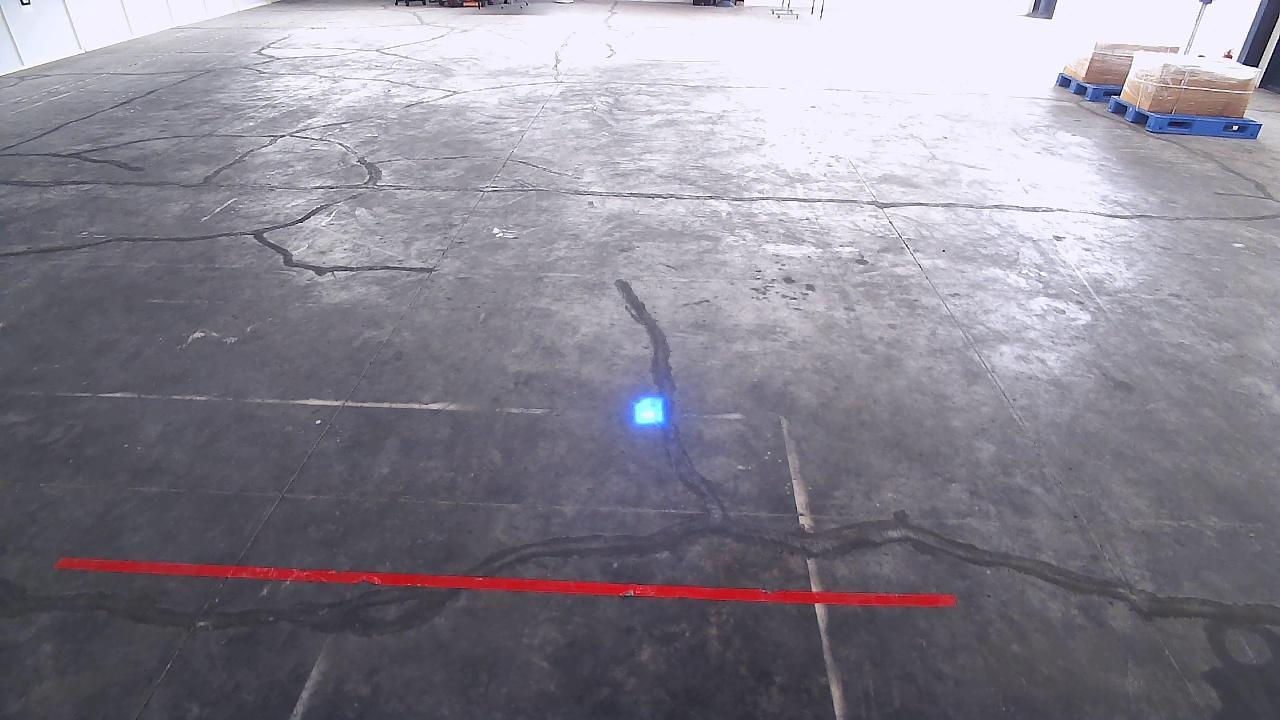red_line: (57, 556, 955, 605)
